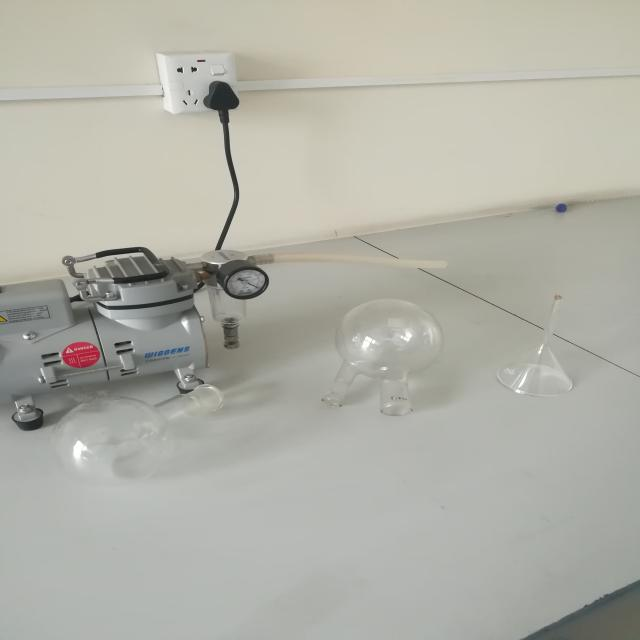Funnel: (497, 268, 611, 426)
Round_Bottom_Flask_Borosilicate_Glass_1_Neck: (39, 344, 256, 499)
Round_Bottom_Flask_Borosilicate_Glass_2_Neck: (321, 260, 464, 467)
